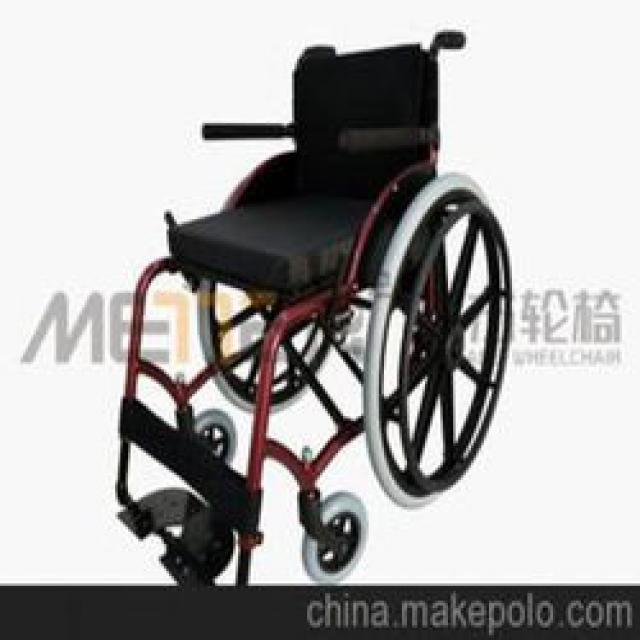wheelchair: (115, 18, 517, 578)
